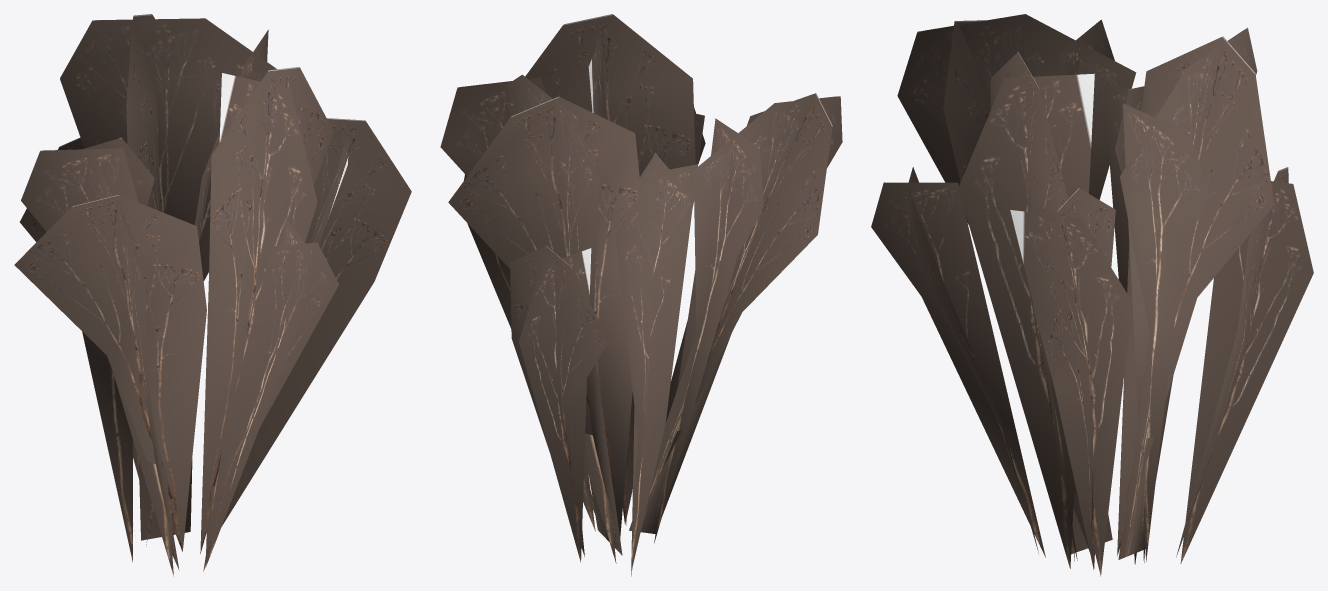
File: Grass_B_3.fbx
3 views of the same model, side by side, from view 1: azimuth 30°, elevation 25°; view 2: azimuth 150°, elevation 25°; view 3: azimuth 270°, elevation 25° (orthographic). The views are drawn at different scales.
Parts seen in each view (by area): view 1: Grass_B_3; view 2: Grass_B_3; view 3: Grass_B_3.
Part boxes in pixels (left/top/right/bottom): Grass_B_3: left=14, top=14, right=411, bottom=576; Grass_B_3: left=440, top=14, right=842, bottom=576; Grass_B_3: left=871, top=14, right=1313, bottom=576.
Size of the model in its own units: 0.8151 by 1.05 by 0.7594.
